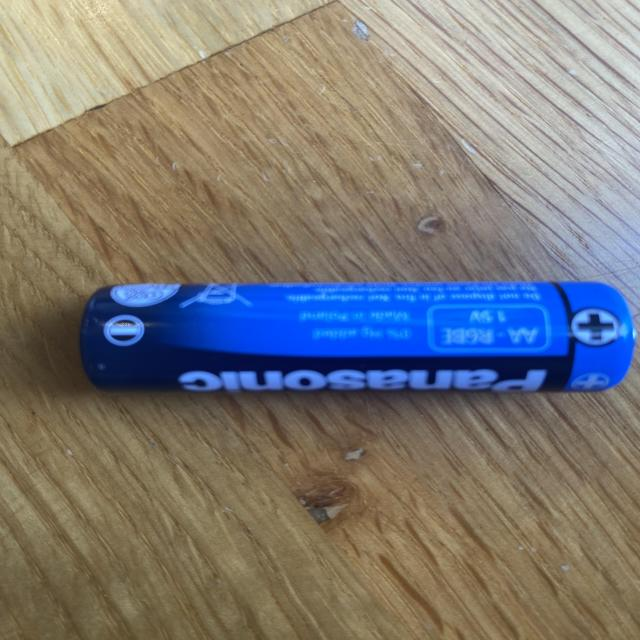AA: (79, 279, 636, 394)
